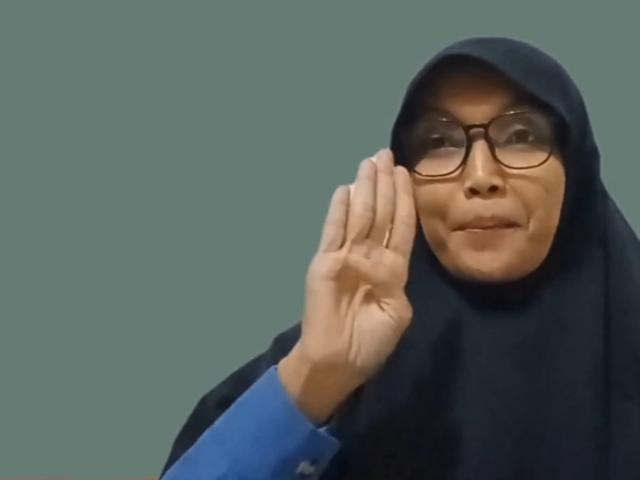B: (306, 147, 416, 380)
